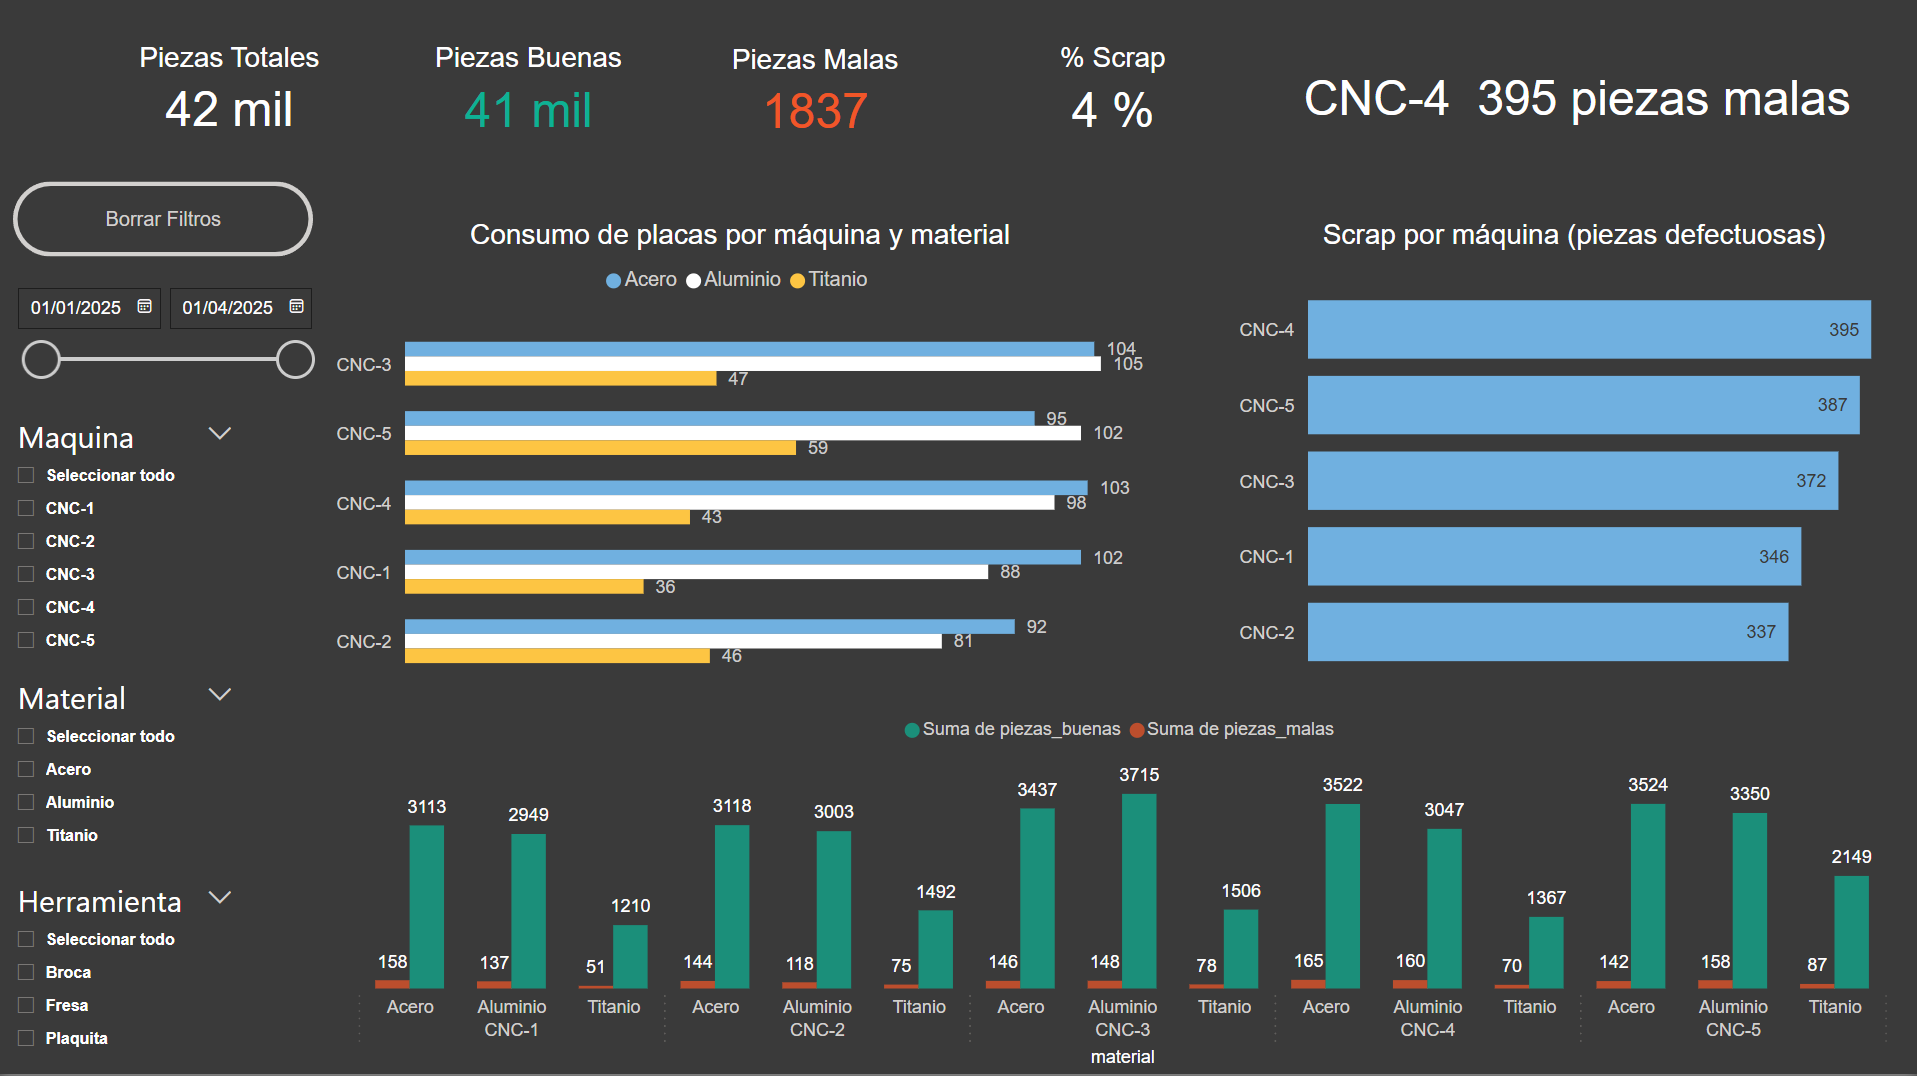

This screenshot's page, from the dashboard's own definition file:
{"tool":"powerbi","page":{"name":"Página 1","canvas":[1280,720],"ordinal":0},"visuals":[{"type":"clusteredColumnChart","fields":{"Category":["dim_maquinas.nombre_maquina","dim_piezas.material"],"Y":["Sum(fact_produccion.piezas_buenas)","Sum(fact_produccion.piezas_malas)"]},"box":[250.9,471.1,1028.8,248.8],"z":0},{"type":"slicer","title":"Tipo de herramienta","fields":{"Values":["dim_herramientas.tipo_herramienta"]},"box":[0,285.2,167.7,130.7],"z":1000},{"type":"slicer","title":"Nombre de maquina","fields":{"Values":["dim_maquinas.nombre_maquina"]},"box":[0,415.9,144,169.8],"z":2000},{"type":"slicer","fields":{"Values":["dim_piezas.material"]},"box":[0,585.7,136.3,134.2],"z":3000},{"type":"actionButton","box":[10,125,200,50],"z":4000},{"type":"card","title":"Piezas Totales","fields":{"Values":["fact_produccion.Piezas Totales"]},"box":[56.7,31.5,194.5,67.7],"z":5000},{"type":"card","title":"Piezas Buenas","fields":{"Values":["Sum(fact_produccion.piezas_buenas)"]},"box":[251,32,205,67.7],"z":6000},{"type":"card","title":"Piezas Malas","fields":{"Values":["Sum(fact_produccion.piezas_malas)"]},"box":[455.9,32.6,177.4,67],"z":7000},{"type":"card","title":"% Scrap","fields":{"Values":["fact_produccion.Scrap %"]},"box":[633.3,32,220.1,67.7],"z":8000},{"type":"barChart","title":"Scrap Por Maquina","fields":{"Category":["dim_maquinas.nombre_maquina"],"Y":["fact_produccion.Scrap por pieza"]},"box":[821.3,209.7,458.5,261.4],"z":9000},{"type":"clusteredBarChart","title":"Placas Usadas","fields":{"Y":["Sum(fact_produccion.placas_usadas)"],"Category":["dim_maquinas.nombre_maquina"],"Series":["dim_piezas.material"]},"box":[199.9,209.7,570.3,261.4],"z":10000},{"type":"card","fields":{"Values":["fact_produccion.Máquina con más scrap"]},"box":[853.4,32.9,398.4,67.8],"z":11000},{"type":"slicer","fields":{"Values":["fact_produccion.fecha"]},"box":[0,195,219.5,90.2],"z":11001}]}

Visuals, with their boxes in screenshot pixels (x1, y1, x2, y2), scaled from the page's 1280x720 canvas onto the 1917x1076 screenshot:
clusteredColumnChart - dim_maquinas.nombre_maquina x dim_piezas.material: {"x1": 376, "y1": 704, "x2": 1916, "y2": 1075}
"Tipo de herramienta" slicer: {"x1": 0, "y1": 426, "x2": 251, "y2": 622}
"Nombre de maquina" slicer: {"x1": 0, "y1": 622, "x2": 216, "y2": 875}
slicer - dim_piezas.material: {"x1": 0, "y1": 875, "x2": 204, "y2": 1075}
actionButton: {"x1": 15, "y1": 187, "x2": 315, "y2": 262}
"Piezas Totales" card: {"x1": 85, "y1": 47, "x2": 376, "y2": 148}
"Piezas Buenas" card: {"x1": 376, "y1": 48, "x2": 683, "y2": 149}
"Piezas Malas" card: {"x1": 683, "y1": 49, "x2": 948, "y2": 149}
"% Scrap" card: {"x1": 948, "y1": 48, "x2": 1278, "y2": 149}
"Scrap Por Maquina" barChart: {"x1": 1230, "y1": 313, "x2": 1916, "y2": 704}
"Placas Usadas" clusteredBarChart: {"x1": 299, "y1": 313, "x2": 1153, "y2": 704}
card - fact_produccion.Máquina con más scrap: {"x1": 1278, "y1": 49, "x2": 1875, "y2": 150}
slicer - fact_produccion.fecha: {"x1": 0, "y1": 291, "x2": 329, "y2": 426}
